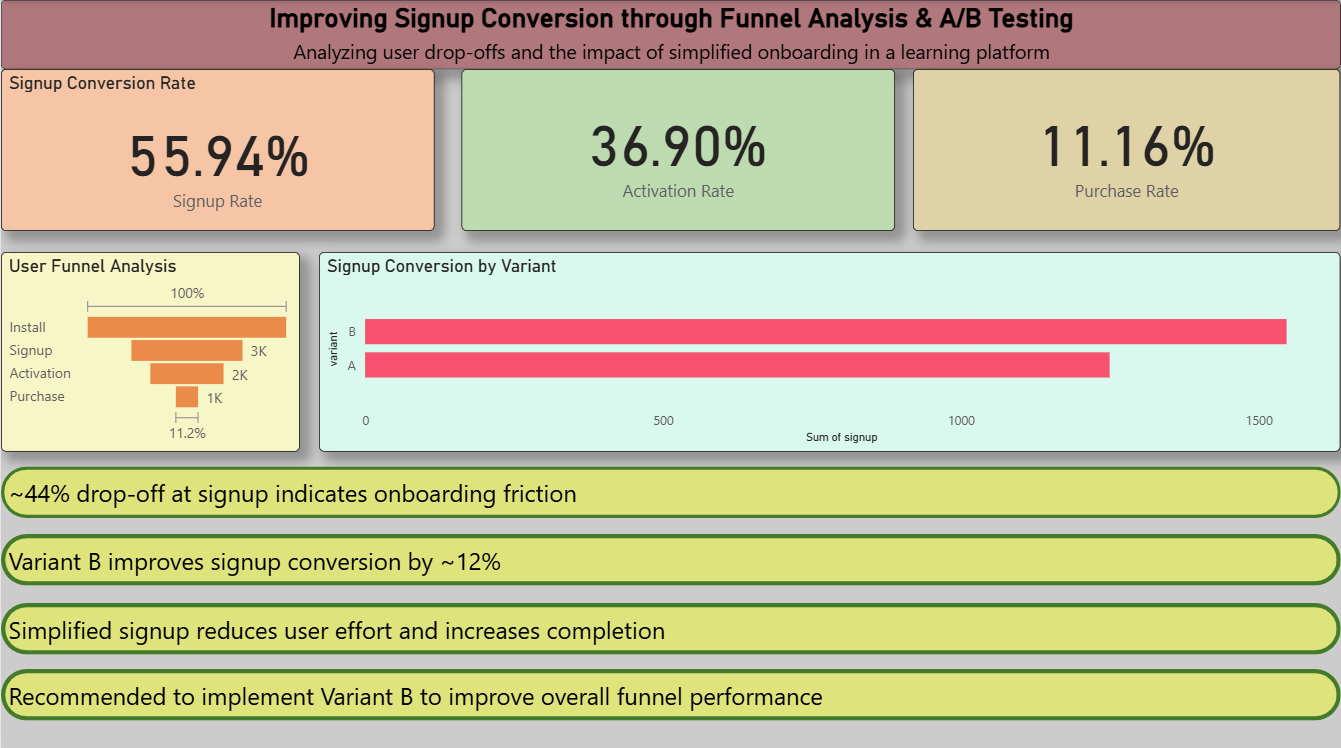

The dashboard page shown, as its layout file describes it:
{"tool":"powerbi","page":{"name":"Page 1","canvas":[1280,720],"ordinal":0},"visuals":[{"type":"textbox","title":"Improving Signup Conversion through Funnel Analysis & A/B Testing","box":[0,0,1279.4,66.1],"z":0},{"type":"card","title":"Signup Conversion Rate","fields":{"Values":["user_data.Signup Rate"]},"box":[0,66.1,413.9,155],"z":1000},{"type":"card","fields":{"Values":["user_data.Activation Rate"]},"box":[440.3,66.1,413.9,155],"z":2000},{"type":"card","fields":{"Values":["user_data.Purchase Rate"]},"box":[871.2,66.1,408.2,155],"z":3000},{"type":"clusteredBarChart","title":"Signup Conversion by Variant","fields":{"Y":["Sum(user_data.signup)"],"Category":["user_data.variant"]},"box":[304.3,240,975.1,190.9],"z":4000},{"type":"funnel","title":"User Funnel Analysis","fields":{"Category":["Table.Stage"],"Y":["Sum(Table.Users)"]},"box":[0,240,285.4,190.9],"z":5000},{"type":"shape","box":[0,446,1279.4,49.1],"z":5001},{"type":"shape","box":[0,510.2,1279.4,49.1],"z":5002},{"type":"shape","box":[0,576.4,1279.4,49.1],"z":5003},{"type":"shape","box":[0,638.7,1279.4,49.1],"z":5004}]}

Visuals, with their boxes in screenshot pixels (x1, y1, x2, y2), scaled from the page's 1280x720 canvas onto the 1341x748 screenshot:
"Improving Signup Conversion through Funnel Analysis & A/B Testing" textbox: 0:0:1340:69
"Signup Conversion Rate" card: 0:69:434:230
card - user_data.Activation Rate: 461:69:895:230
card - user_data.Purchase Rate: 913:69:1340:230
"Signup Conversion by Variant" clusteredBarChart: 319:249:1340:448
"User Funnel Analysis" funnel: 0:249:299:448
shape: 0:463:1340:514
shape: 0:530:1340:581
shape: 0:599:1340:650
shape: 0:664:1340:715
